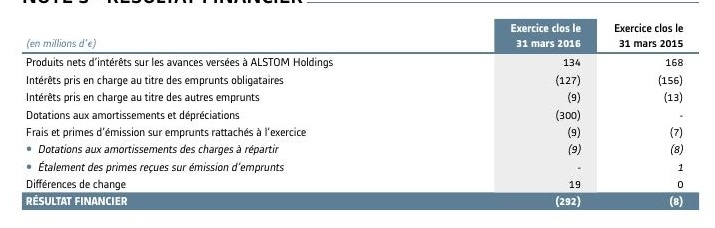table: (0, 0, 715, 228)
